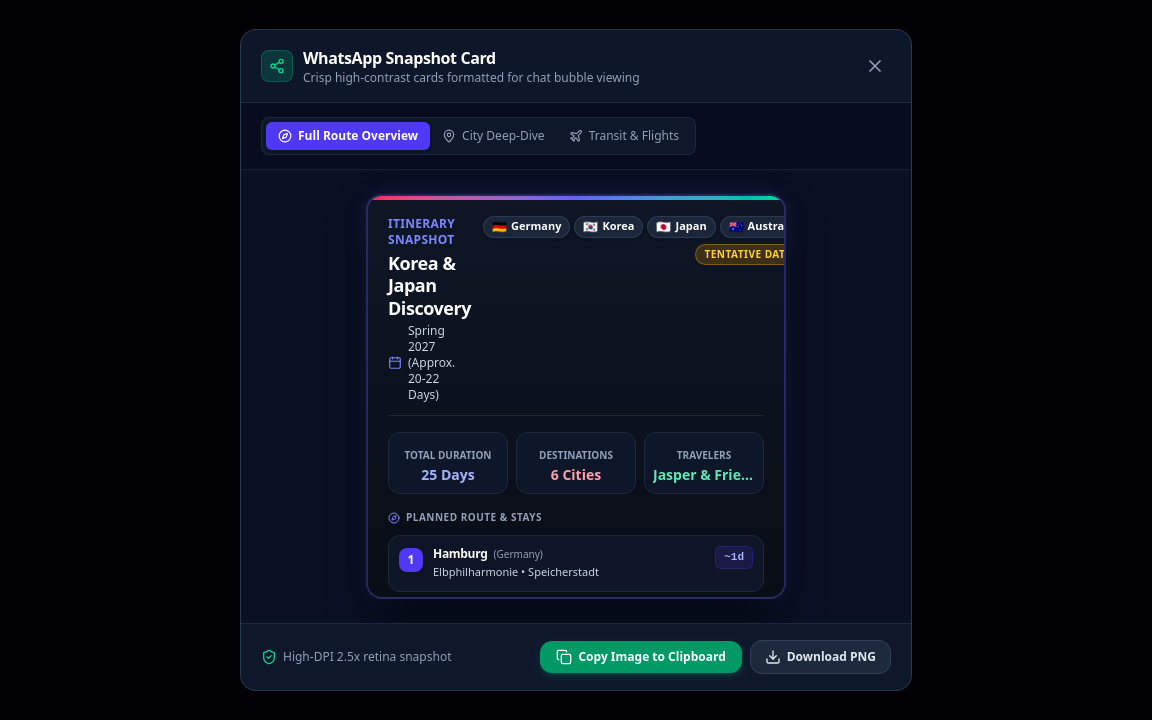
WhatsAppSnapshotModal Component › switches to City Deep-Dive mode and updates content when selecting a city
Switch to City Deep-Dive mode
Click the button "City Deep-Dive" at (493, 136), box [430,122,557,150]
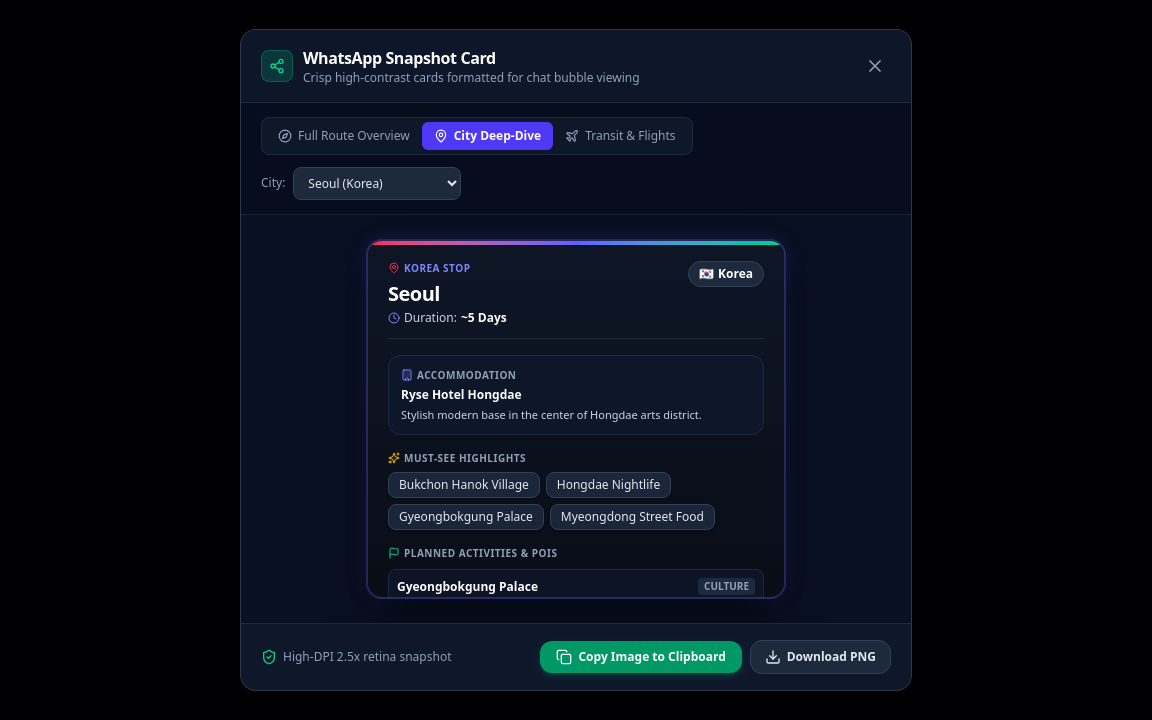
expect the heading "Ryse Hotel Hongdae" is shown: met, box [401,386,522,403]
expect the text "Bukchon Hanok Village" is shown: met, box [388,472,540,498]
Change city in selector to Busan
Select "Busan (Korea)" in the dropdown at (377, 183), box [293,167,461,200]
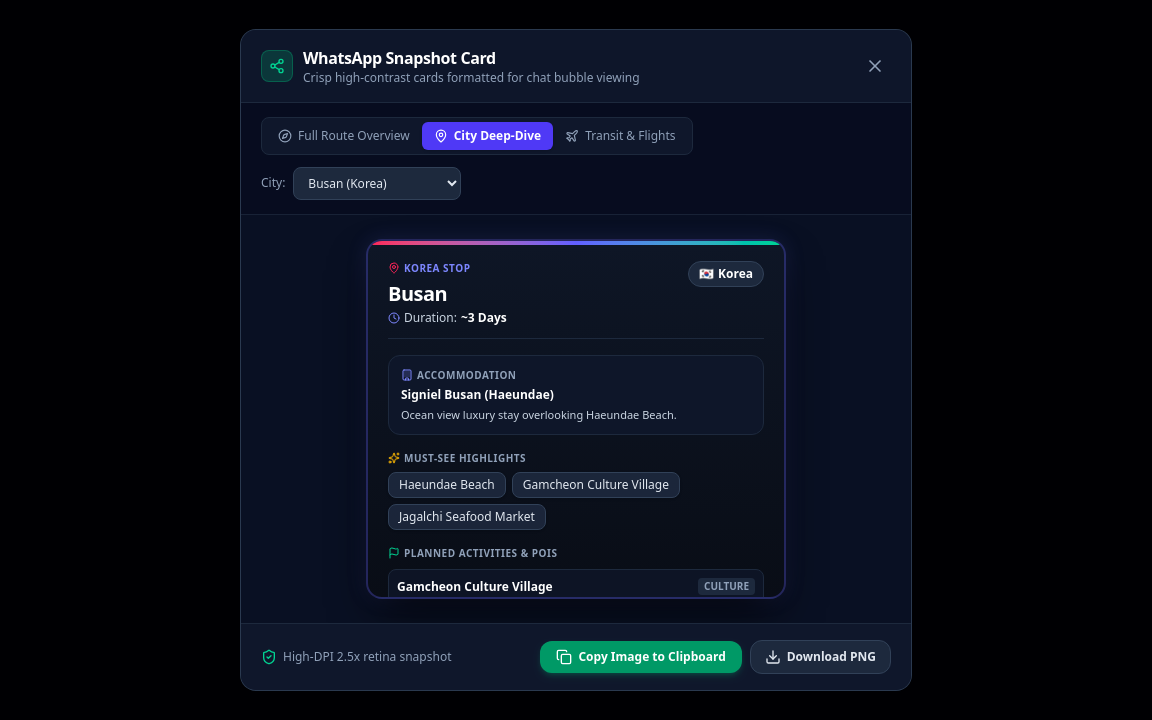
expect the heading "Signiel Busan (Haeundae)" is shown: met, box [401,386,554,403]
expect the text "Gamcheon Culture Village" below "Must-See Highlights" is shown: met, box [523,476,669,493]
